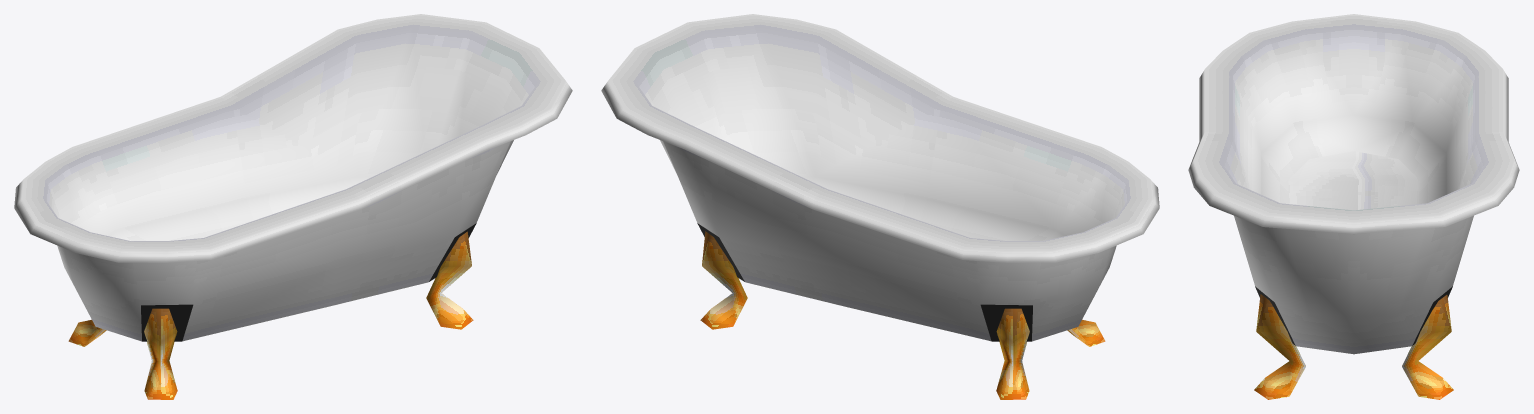
Rendered from rmk_oth_bathtub_mtl.dae.
The picture shows the model from 3 angles, left to right: view 1: azimuth 30°, elevation 25°; view 2: azimuth 150°, elevation 25°; view 3: azimuth 270°, elevation 25°; orthographic projection. The views are drawn at different scales.
Visible parts, largest first — view 1: rmk_oth_bathtub_mtl; view 2: rmk_oth_bathtub_mtl; view 3: rmk_oth_bathtub_mtl.
Boxes of the visible parts, box(x1,y1,x2,y2) form: rmk_oth_bathtub_mtl: box(14, 14, 572, 399); rmk_oth_bathtub_mtl: box(601, 14, 1159, 399); rmk_oth_bathtub_mtl: box(1188, 14, 1519, 399).
Size of the model in its own units: 57.4 by 23.2 by 29.8.
3 materials, 3 textured.
